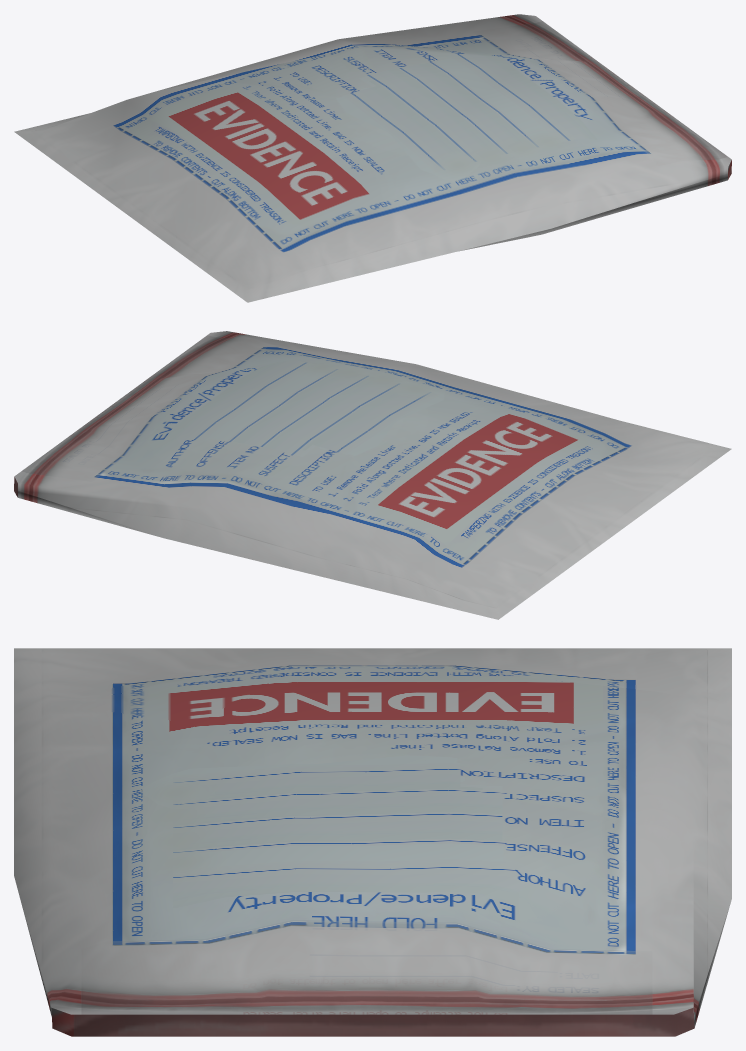
Rendered from evidence_bag_a_01.FBX.
3 renders of one model, top to bottom at view 1: azimuth 30°, elevation 25°; view 2: azimuth 150°, elevation 25°; view 3: azimuth 270°, elevation 25°, orthographic. The views are drawn at different scales.
Parts seen in each view (by area): view 1: evidence_bag_a_01; view 2: evidence_bag_a_01; view 3: evidence_bag_a_01.
Part boxes in pixels (<box>): evidence_bag_a_01: <box>14,14,731,302</box>; evidence_bag_a_01: <box>14,331,731,619</box>; evidence_bag_a_01: <box>14,648,731,1036</box>.
Bounding box in the file's own units: 0.2684 × 0.0363 × 0.2159.
